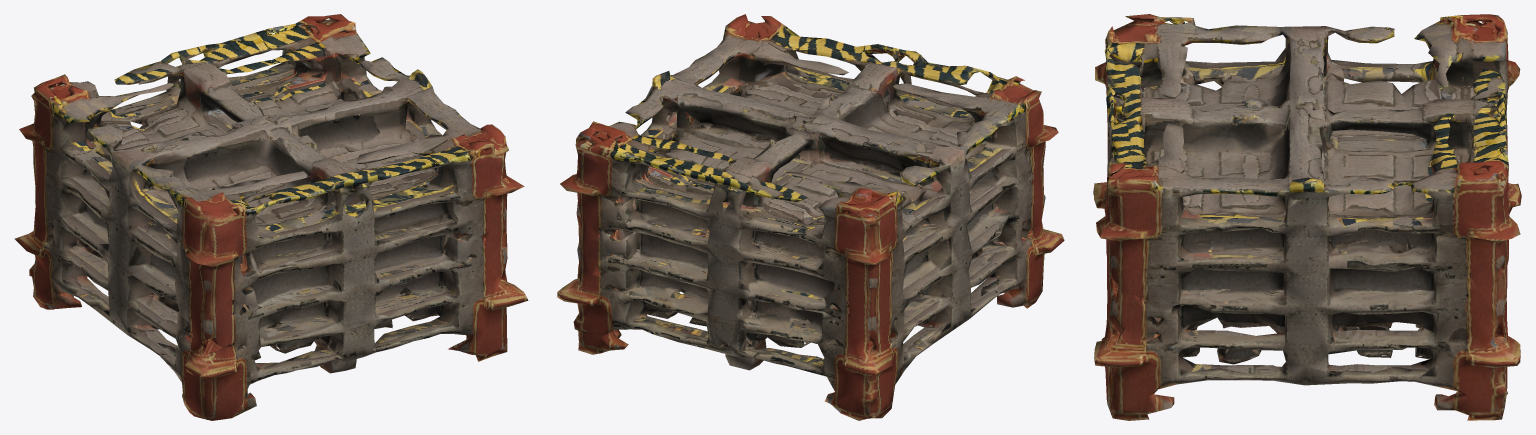
The model's file is prop_highland.glb.
3 views of the same model, side by side, from view 1: azimuth 30°, elevation 25°; view 2: azimuth 150°, elevation 25°; view 3: azimuth 270°, elevation 25° (orthographic). The views are drawn at different scales.
Parts seen in each view (by area): view 1: texture_mapping; view 2: texture_mapping; view 3: texture_mapping.
Boxes of the visible parts, x1,y1,x2,y2 form: texture_mapping: (14,14,528,420); texture_mapping: (557,14,1064,420); texture_mapping: (1093,14,1521,420).
Bounding box in the file's own units: 0.9515 × 0.6038 × 0.9536.
1 material, 1 textured.
